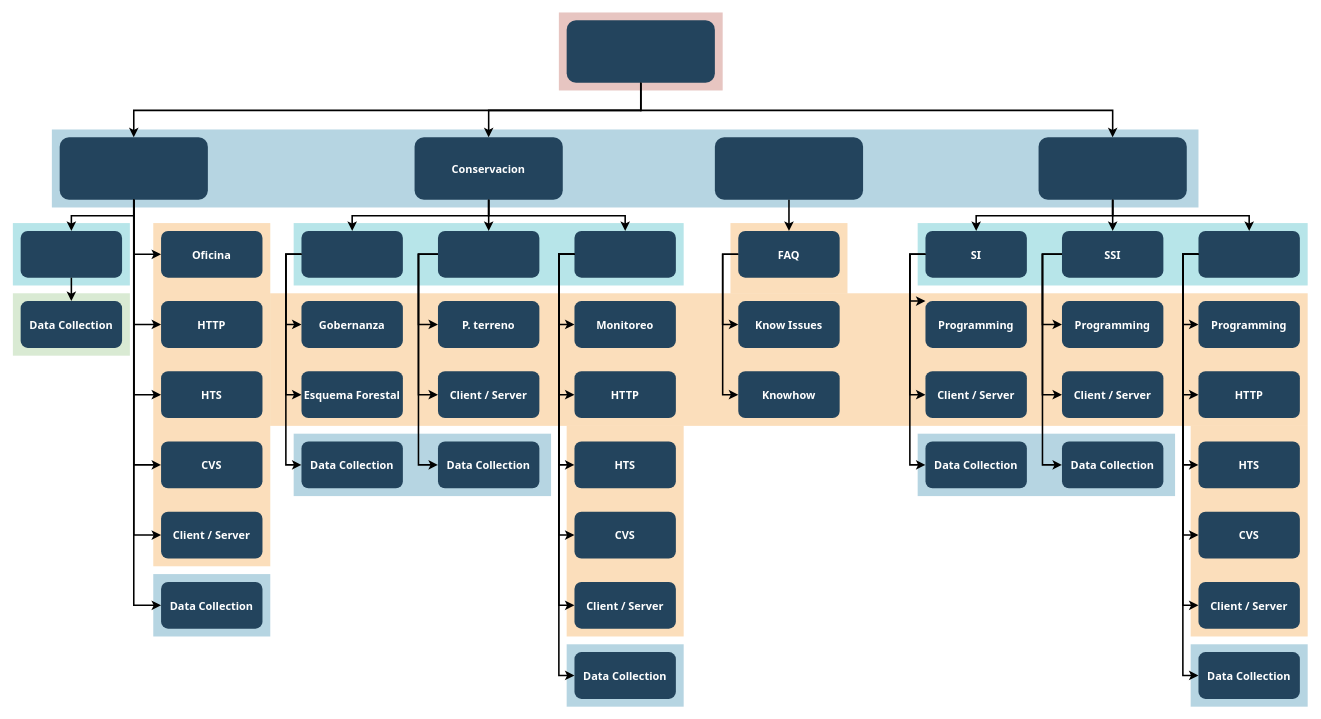
Some shapes in this 1321 by 719 pixel diagram are drawn without their labels. The centre of each missing label's shape, as x and y in pixels:
"Administracion" belongs at pixel 133 168.
"Ambiente" belongs at pixel 640 51.
"Plantulas" belongs at pixel 351 253.
"Productivo" belongs at pixel 788 168.
"PSA" belongs at pixel 1112 168.
"Resiembra" belongs at pixel 624 253.
"Siembra" belongs at pixel 488 253.
"Transporte" belongs at pixel 71 253.
"XMI" belongs at pixel 1248 253.
